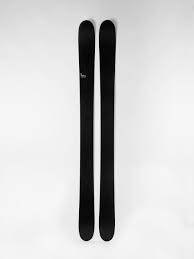skis: (74, 18, 120, 241)
